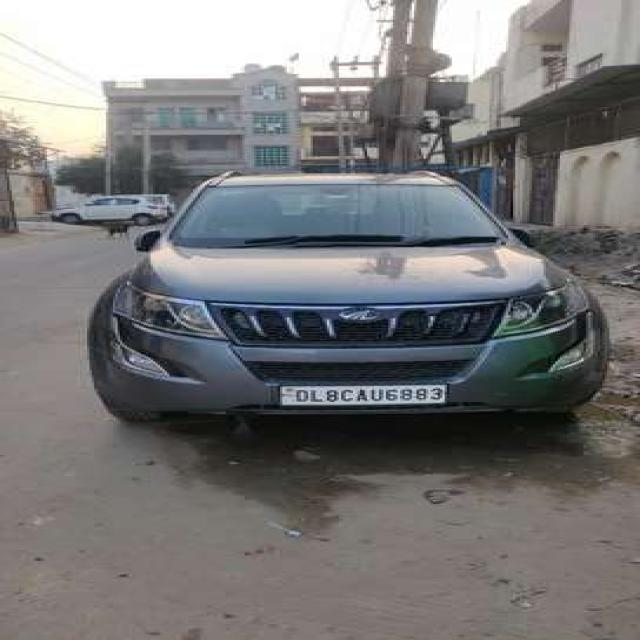licenseplate: (273, 382, 449, 406)
